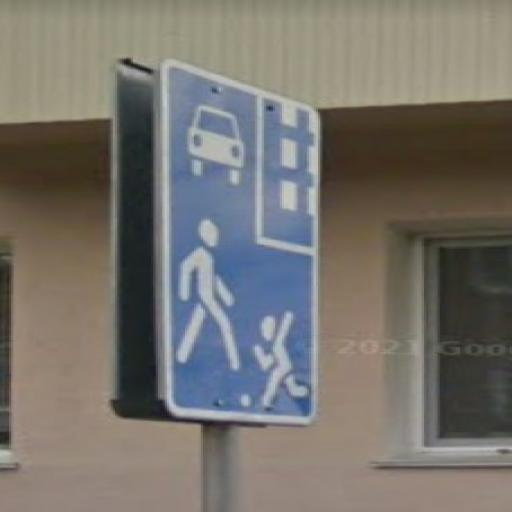traffic_sign: (152, 60, 326, 429)
